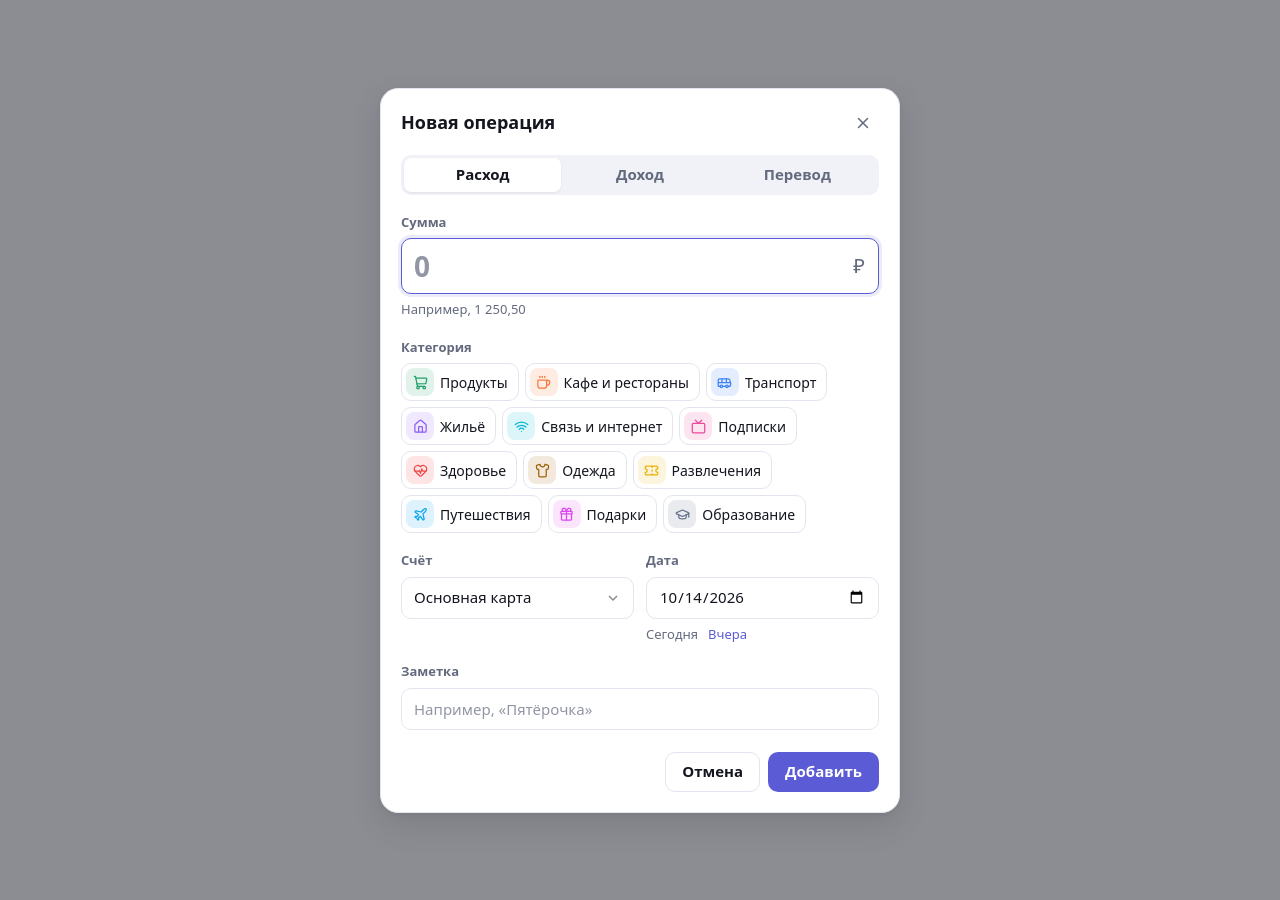
Test case: форма операции › ошибка сервера по полю (422) — показывается под этим полем
This screenshot has width=1280, height=900.
Step 1. Type "100" into the field labelled "Сумма" → (640, 266), box [401,238,879,294]
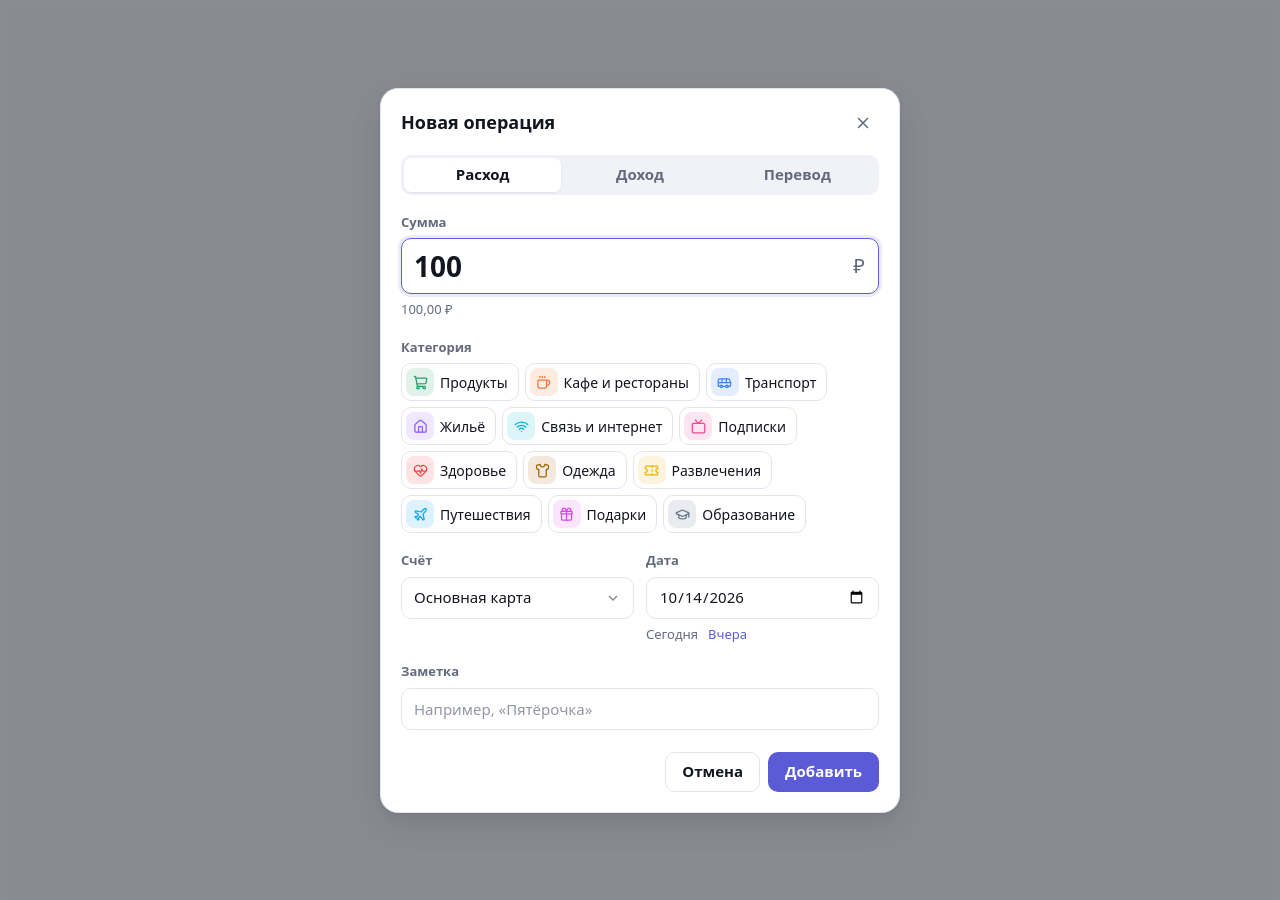
Step 2. Click the radio button labelled "Продукты" → (460, 382), box [401,363,519,401]
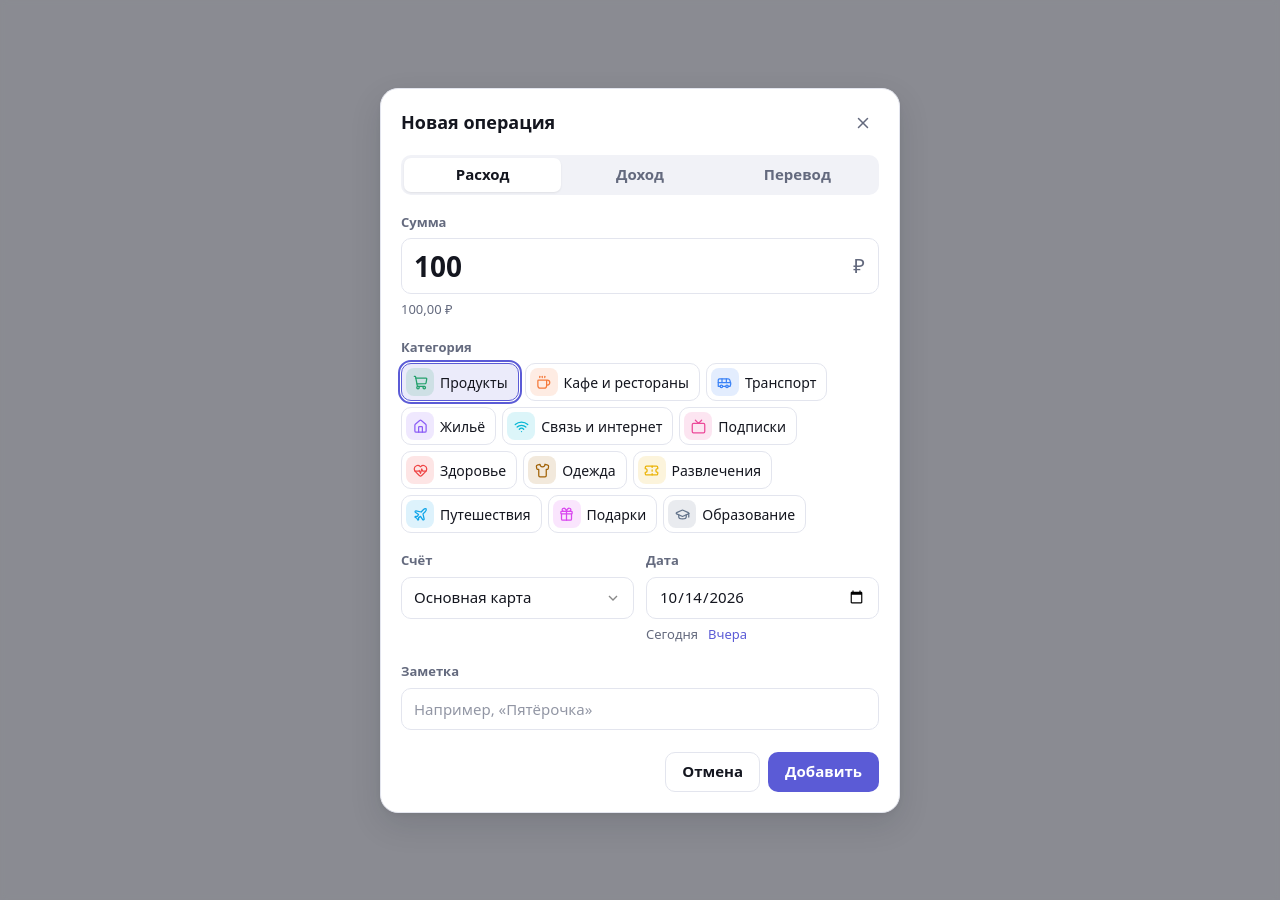
Step 3. Click the button "Добавить" → (824, 772), box [768,752,879,792]
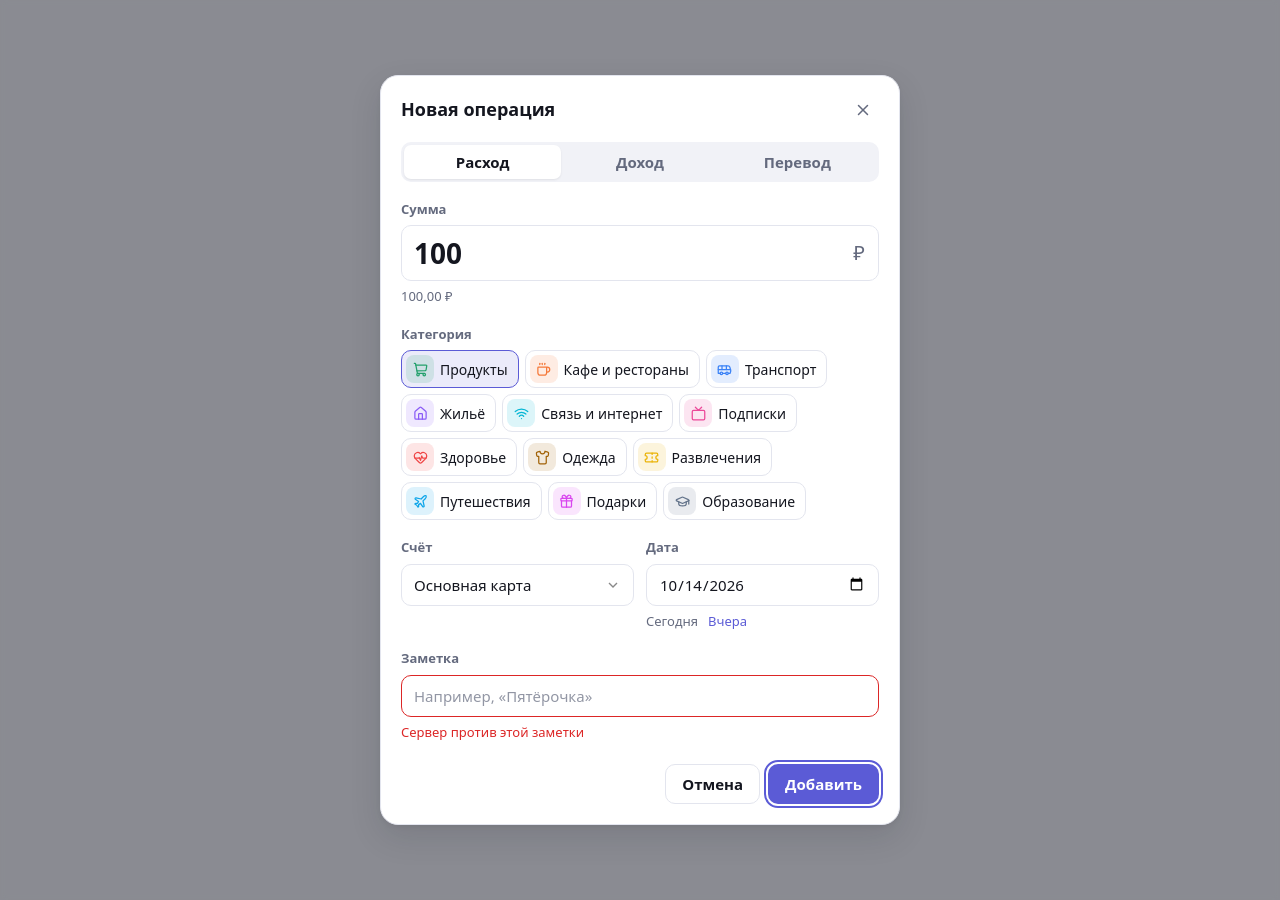
Expected: the text "Сервер против этой заметки" is shown, [401,723,584,741]
